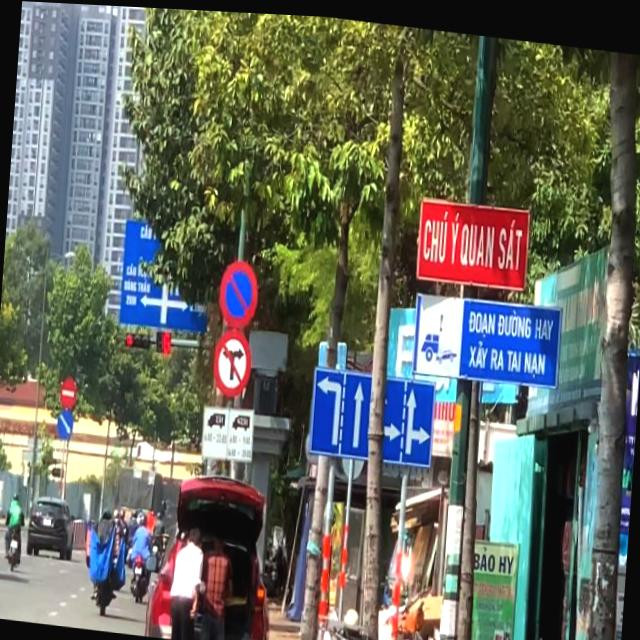Cam di nguoc chieu: (59, 375, 76, 408)
Cam do xe: (217, 254, 260, 328)
Vong chuong ngai vat sang phai: (56, 408, 74, 441)
